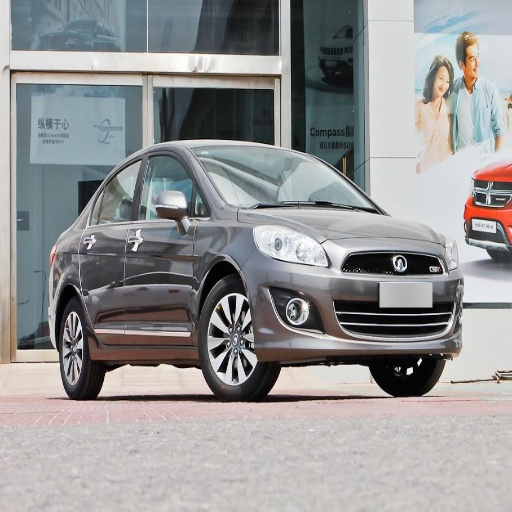front_bumper: (249, 241, 461, 361)
front_right_door: (125, 148, 202, 337)
front_right_light: (254, 224, 329, 268)
